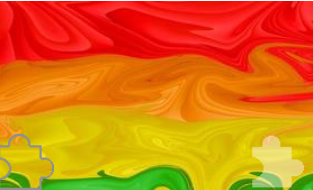target: (246, 130, 306, 190)
